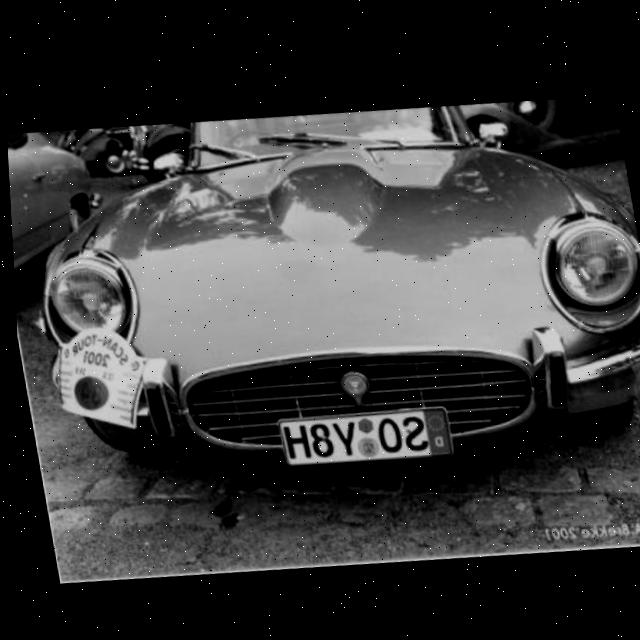license-plates: (279, 409, 453, 466)
